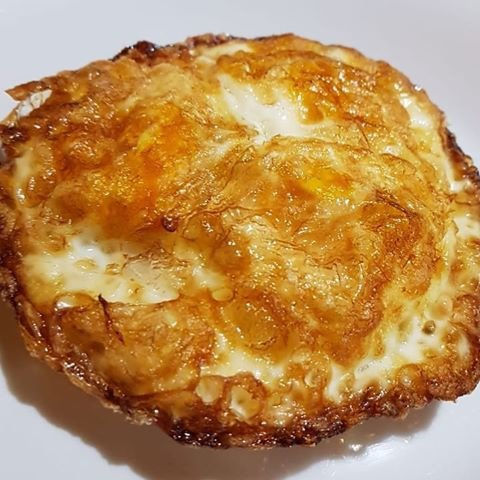Telur: (3, 8, 480, 465)
